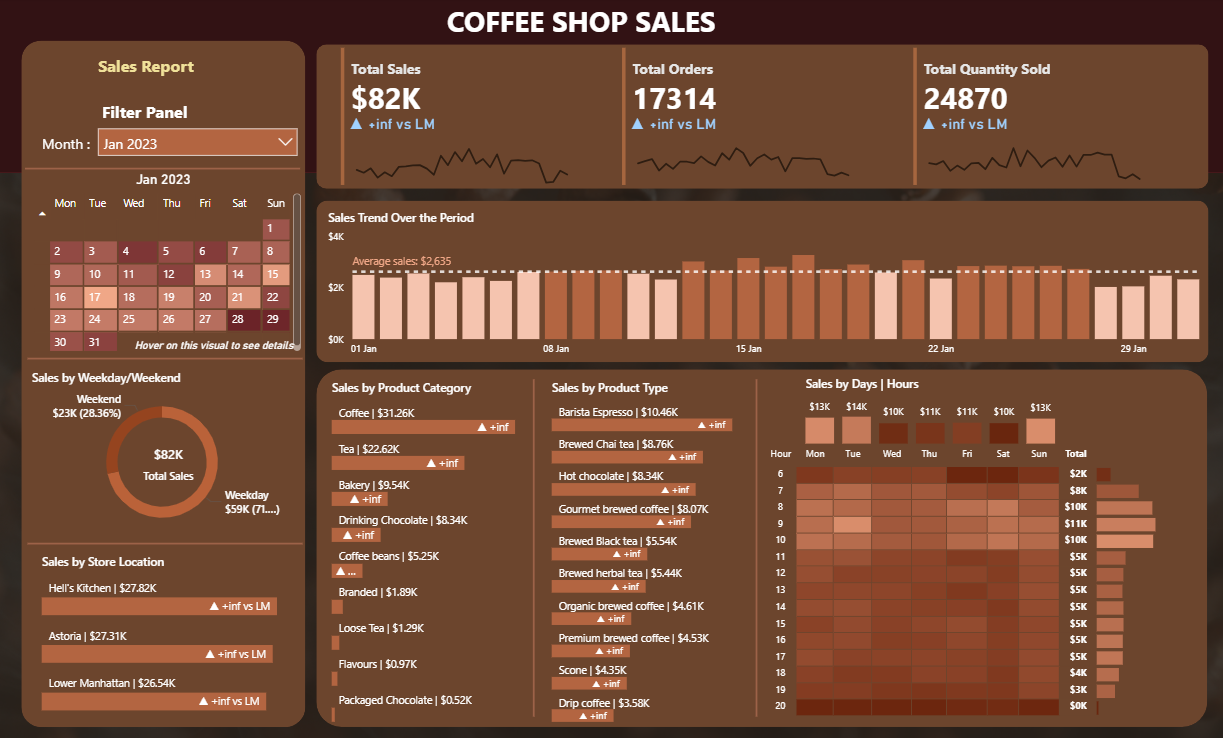

What the dashboard file says about the page in this screenshot:
{"tool":"powerbi","page":{"name":"Main","canvas":[1400,850],"ordinal":0},"visuals":[{"type":"shape","box":[0,0,1400.3,199.6],"z":0},{"type":"cardVisual","fields":{"Data":["Transactions.Total Sales"]},"box":[374,52.7,300.5,165.2],"z":0,"group":"g1"},{"type":"cardVisual","fields":{"Data":["Transactions.Total Orders"]},"box":[695.5,52.7,300.5,165.2],"z":0,"group":"g2"},{"type":"cardVisual","fields":{"Data":["Transactions.Total Quantity Sold"]},"box":[1027.9,52.7,300.5,165.2],"z":0,"group":"g3"},{"type":"shape","box":[24.2,48.4,324.7,784.8],"z":1000},{"type":"lineChart","fields":{"Category":["Date Table.Date.Variation.Date Hierarchy.Year","Date Table.Date.Variation.Date Hierarchy.Quarter","Date Table.Date.Variation.Date Hierarchy.Month","Date Table.Date.Variation.Date Hierarchy.Day"],"Y":["Transactions.Total Sales"]},"box":[392.5,132.5,270.6,85.5],"z":1000,"group":"g1"},{"type":"lineChart","fields":{"Category":["Date Table.Date.Variation.Date Hierarchy.Year","Date Table.Date.Variation.Date Hierarchy.Quarter","Date Table.Date.Variation.Date Hierarchy.Month","Date Table.Date.Variation.Date Hierarchy.Day"],"Y":["Transactions.Total Orders"]},"box":[714,132.5,270.6,85.5],"z":1000,"group":"g2"},{"type":"lineChart","fields":{"Category":["Date Table.Date.Variation.Date Hierarchy.Year","Date Table.Date.Variation.Date Hierarchy.Quarter","Date Table.Date.Variation.Date Hierarchy.Month","Date Table.Date.Variation.Date Hierarchy.Day"],"Y":["Transactions.Total Quantity Sold"]},"box":[1046.4,132.5,270.6,85.5],"z":1000,"group":"g3"},{"type":"shape","box":[361.8,52.7,1019.8,165.2],"z":2000},{"type":"textbox","box":[505.6,0,390.3,59.8],"z":3000},{"type":"slicer","fields":{"Values":["Date Table.Month Year"]},"box":[106.8,143.9,237.9,41.3],"z":4000},{"type":"group","id":"g1","title":"Group 1","box":[374,52.7,300.5,165.2],"z":5000},{"type":"group","id":"g2","title":"Group 1","box":[695.5,52.7,300.5,165.2],"z":6000},{"type":"group","id":"g3","title":"Group 1","box":[1027.9,52.7,300.5,165.2],"z":7000},{"type":"pivotTable","fields":{"Rows":["Date Table.Week Num"],"Columns":["Date Table.Day Name"],"Values":["Min(Date Table.Day Num)"]},"box":[34.2,217.9,314.8,189.4],"z":8000},{"type":"card","fields":{"Values":["Min(Date Table.Month Year)"]},"box":[138.2,189.4,96.9,35.6],"z":9000},{"type":"card","fields":{"Values":["Transactions.Foot Note"]},"box":[131,378.9,226.5,39.9],"z":10000},{"type":"shape","box":[28.5,188,314.8,12.8],"z":11000},{"type":"shape","box":[31.3,405.9,314.8,12.8],"z":12000},{"type":"donutChart","title":"Sales by Weekday/Weekend","fields":{"Category":["Date Table.Weekday/Weekend"],"Y":["Transactions.Total Sales"]},"box":[34.2,424.4,308,195],"z":13000},{"type":"card","fields":{"Values":["Transactions.Total Sales"]},"box":[111.1,491.4,162.4,81.2],"z":14000},{"type":"shape","box":[31.3,616.7,314.8,12.8],"z":15000},{"type":"clusteredBarChart","title":"Sales by Store Location","fields":{"Category":["Transactions.store_location"],"Y":["Transactions.Placeholder","Transactions.Total Sales"]},"box":[42.7,633.8,306.2,188],"z":16000},{"type":"shape","box":[361.8,230.7,1019.8,185],"z":17000},{"type":"columnChart","title":"Sales Trend Over the Period","fields":{"Y":["Transactions.Total Sales"],"Category":["Transactions.transaction_date"]},"box":[370.3,242.1,1009.8,176.6],"z":18000},{"type":"shape","box":[361.8,424.4,1018.4,408.8],"z":19000},{"type":"clusteredBarChart","title":"Sales by Product Category","fields":{"Category":["Transactions.product_category"],"Y":["Transactions.Placeholder","Transactions.Total Sales"]},"box":[374.6,435.8,250.7,397.4],"z":20000},{"type":"shape","box":[603.9,435.8,11.4,386],"z":21000},{"type":"clusteredBarChart","title":"Sales by Product Type","fields":{"Y":["Transactions.Placeholder","Transactions.Total Sales"],"Category":["Transactions.product_type"]},"box":[625.3,435.8,250.7,397.4],"z":22000},{"type":"shape","box":[858.5,435.3,12,385.7],"z":23000},{"type":"pivotTable","fields":{"Rows":["Transactions.Hour"],"Columns":["Date Table.Day Name"],"Values":["Transactions.Total Sales"]},"box":[870.2,508.5,400.2,341.8],"z":24000},{"type":"barChart","fields":{"Category":["Transactions.Hour"],"Y":["Transactions.Total Sales"]},"box":[1249,522.7,151,300.5],"z":25000},{"type":"columnChart","title":"Sales by Days | Hours","fields":{"Category":["Date Table.Day Name"],"Y":["Transactions.Total Sales"]},"box":[915.8,431.6,296.2,84],"z":25001},{"type":"textbox","box":[42.7,149.5,82.6,41.3],"z":25002},{"type":"textbox","box":[106.8,59.8,128.2,39.9],"z":25003},{"type":"textbox","box":[111.1,112.5,128.2,39.9],"z":25004}]}

Visuals, with their boxes in screenshot pixels (x1, y1, x2, y2), scaled from the page's 1400x850 canvas onto the 1223x738 screenshot:
shape: [x1=0, y1=0, x2=1222, y2=173]
cardVisual - Transactions.Total Sales: [x1=327, y1=46, x2=589, y2=189]
cardVisual - Transactions.Total Orders: [x1=608, y1=46, x2=870, y2=189]
cardVisual - Transactions.Total Quantity Sold: [x1=898, y1=46, x2=1160, y2=189]
shape: [x1=21, y1=42, x2=305, y2=723]
lineChart - Date Table.Date.Variation.Date Hierarchy.Year x Date Table.Date.Variation.Date Hierarchy.Quarter: [x1=343, y1=115, x2=579, y2=189]
lineChart - Date Table.Date.Variation.Date Hierarchy.Year x Date Table.Date.Variation.Date Hierarchy.Quarter: [x1=624, y1=115, x2=860, y2=189]
lineChart - Date Table.Date.Variation.Date Hierarchy.Year x Date Table.Date.Variation.Date Hierarchy.Quarter: [x1=914, y1=115, x2=1150, y2=189]
shape: [x1=316, y1=46, x2=1207, y2=189]
textbox: [x1=442, y1=0, x2=783, y2=52]
slicer - Date Table.Month Year: [x1=93, y1=125, x2=301, y2=161]
"Group 1" group: [x1=327, y1=46, x2=589, y2=189]
"Group 1" group: [x1=608, y1=46, x2=870, y2=189]
"Group 1" group: [x1=898, y1=46, x2=1160, y2=189]
pivotTable - Date Table.Week Num x Date Table.Day Name: [x1=30, y1=189, x2=305, y2=354]
card - Min(Date Table.Month Year): [x1=121, y1=164, x2=205, y2=195]
card - Transactions.Foot Note: [x1=114, y1=329, x2=312, y2=364]
shape: [x1=25, y1=163, x2=300, y2=174]
shape: [x1=27, y1=352, x2=302, y2=364]
"Sales by Weekday/Weekend" donutChart: [x1=30, y1=368, x2=299, y2=538]
card - Transactions.Total Sales: [x1=97, y1=427, x2=239, y2=497]
shape: [x1=27, y1=535, x2=302, y2=547]
"Sales by Store Location" clusteredBarChart: [x1=37, y1=550, x2=305, y2=714]
shape: [x1=316, y1=200, x2=1207, y2=361]
"Sales Trend Over the Period" columnChart: [x1=323, y1=210, x2=1206, y2=364]
shape: [x1=316, y1=368, x2=1206, y2=723]
"Sales by Product Category" clusteredBarChart: [x1=327, y1=378, x2=546, y2=723]
shape: [x1=528, y1=378, x2=538, y2=714]
"Sales by Product Type" clusteredBarChart: [x1=546, y1=378, x2=765, y2=723]
shape: [x1=750, y1=378, x2=760, y2=713]
pivotTable - Transactions.Hour x Date Table.Day Name: [x1=760, y1=441, x2=1110, y2=737]
barChart - Transactions.Hour x Transactions.Total Sales: [x1=1091, y1=454, x2=1222, y2=715]
"Sales by Days | Hours" columnChart: [x1=800, y1=375, x2=1059, y2=448]
textbox: [x1=37, y1=130, x2=109, y2=166]
textbox: [x1=93, y1=52, x2=205, y2=87]
textbox: [x1=97, y1=98, x2=209, y2=132]
